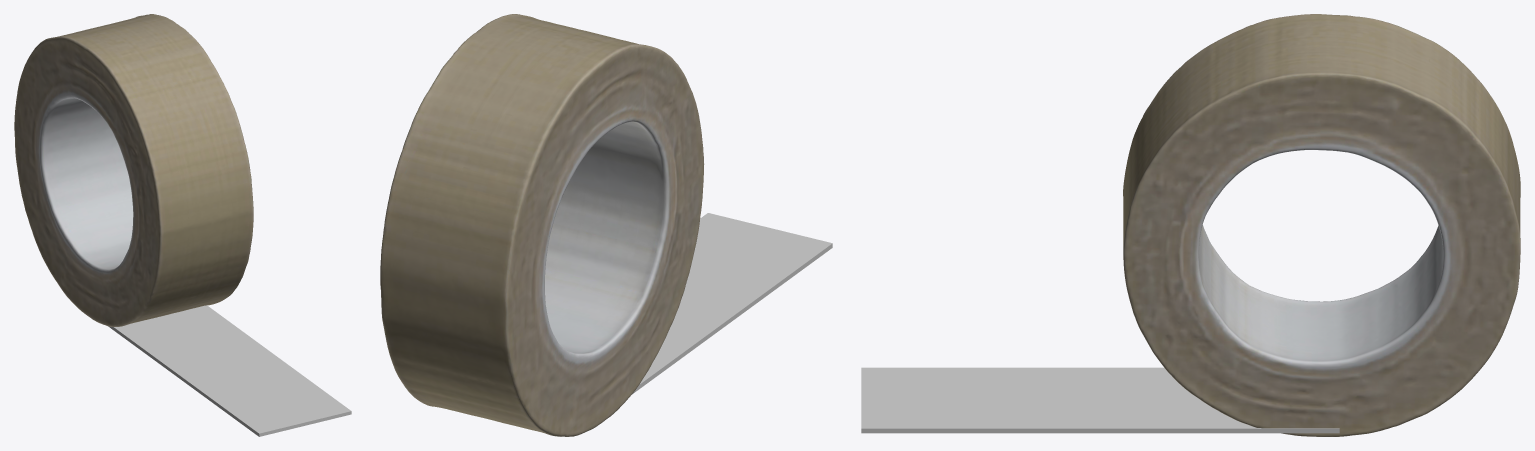
The model's file is tpa.fbx.
The picture shows the model from 3 angles, left to right: view 1: azimuth 30°, elevation 25°; view 2: azimuth 150°, elevation 25°; view 3: azimuth 270°, elevation 25°; orthographic projection. The views are drawn at different scales.
Visible parts, largest first — view 1: high_poly, Cube; view 2: high_poly, Cube; view 3: high_poly, Cube.
Boxes of the visible parts, x1,y1,x2,y2 form: high_poly: (14,14,253,326); Cube: (108,305,351,436); high_poly: (380,14,704,436); Cube: (632,213,832,394); high_poly: (1123,14,1520,436); Cube: (861,367,1339,433).
Bounding box in the file's own units: 37.16 × 99.99 × 164.
